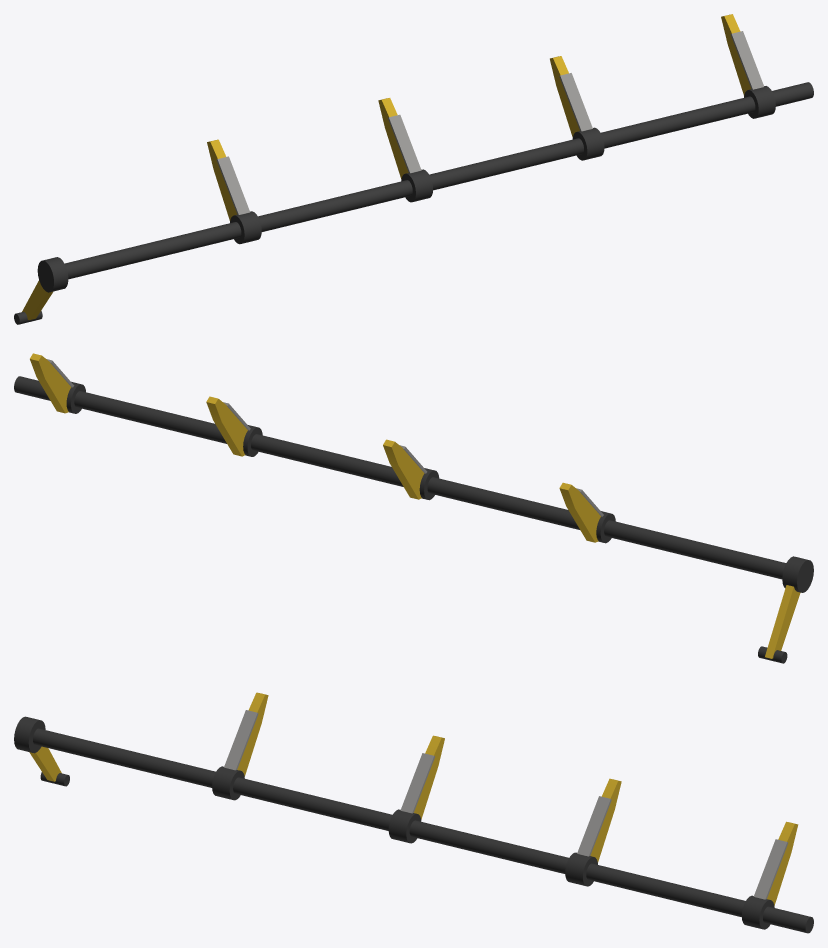
File: log_kicker_paddles.glb
The picture shows the model from 3 angles, top to bottom: view 1: azimuth 30°, elevation 25°; view 2: azimuth 150°, elevation 25°; view 3: azimuth 330°, elevation 25°; orthographic projection. The views are drawn at different scales.
Parts seen in each view (by area): view 1: LK_KickerMesh; view 2: LK_KickerMesh; view 3: LK_KickerMesh.
Boxes of the visible parts, left/top/right/bottom form: LK_KickerMesh: left=14, top=14, right=813, bottom=324; LK_KickerMesh: left=14, top=353, right=813, bottom=663; LK_KickerMesh: left=14, top=692, right=813, bottom=933.
Size of the model in its own units: 5.38 by 0.865 by 0.52.
